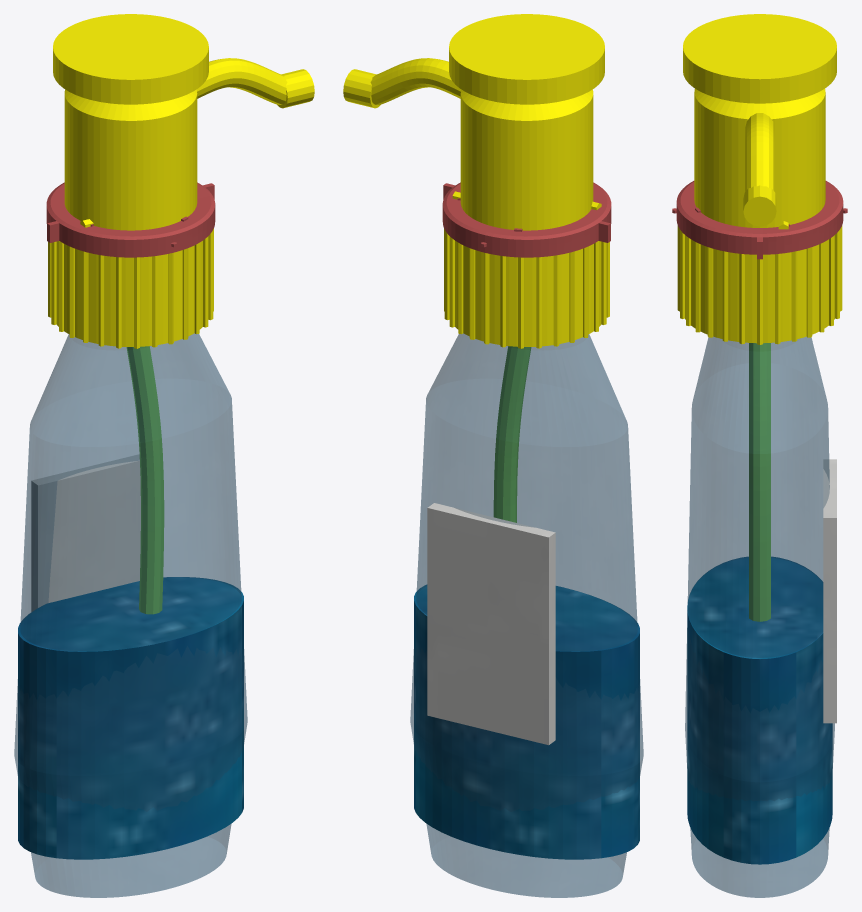
Rendered from Container_Dispenser__0003.glb.
3 renders of one model, left to right at view 1: azimuth 30°, elevation 25°; view 2: azimuth 150°, elevation 25°; view 3: azimuth 270°, elevation 25°, orthographic.
Parts seen in each view (by area): view 1: bottle::bottle_shell, bottle::liquid_fill, pump_head::pump_head_shell, collar::collar_shell, bottle::front_label, dip_tube::dip_tube, lock_ring::lock_ring_shell, spout::spout_shell; view 2: bottle::bottle_shell, bottle::liquid_fill, pump_head::pump_head_shell, bottle::front_label, collar::collar_shell, lock_ring::lock_ring_shell, dip_tube::dip_tube, spout::spout_shell; view 3: bottle::bottle_shell, bottle::liquid_fill, pump_head::pump_head_shell, collar::collar_shell, dip_tube::dip_tube, lock_ring::lock_ring_shell, bottle::front_label, spout::spout_shell.
Part boxes in pixels (<box>): bottle::bottle_shell: <box>14,333,247,897</box>; bottle::liquid_fill: <box>18,577,243,859</box>; pump_head::pump_head_shell: <box>53,14,208,230</box>; collar::collar_shell: <box>48,228,213,348</box>; bottle::front_label: <box>31,454,140,611</box>; dip_tube::dip_tube: <box>126,346,164,614</box>; lock_ring::lock_ring_shell: <box>46,182,215,257</box>; spout::spout_shell: <box>196,58,314,108</box>; bottle::bottle_shell: <box>410,333,643,897</box>; bottle::liquid_fill: <box>414,585,639,859</box>; pump_head::pump_head_shell: <box>449,14,604,230</box>; bottle::front_label: <box>427,503,555,745</box>; collar::collar_shell: <box>444,228,609,348</box>; lock_ring::lock_ring_shell: <box>442,182,611,257</box>; dip_tube::dip_tube: <box>493,346,531,522</box>; spout::spout_shell: <box>343,58,461,108</box>; bottle::bottle_shell: <box>685,336,834,897</box>; bottle::liquid_fill: <box>687,557,832,864</box>; pump_head::pump_head_shell: <box>683,14,836,229</box>; collar::collar_shell: <box>677,225,842,344</box>; dip_tube::dip_tube: <box>749,343,770,621</box>; lock_ring::lock_ring_shell: <box>672,181,847,259</box>; bottle::front_label: <box>823,459,836,723</box>; spout::spout_shell: <box>743,113,776,226</box>.
Size of the model in its own units: 0.0846 by 0.2313 by 0.0454.
6 materials, 5 textured.
